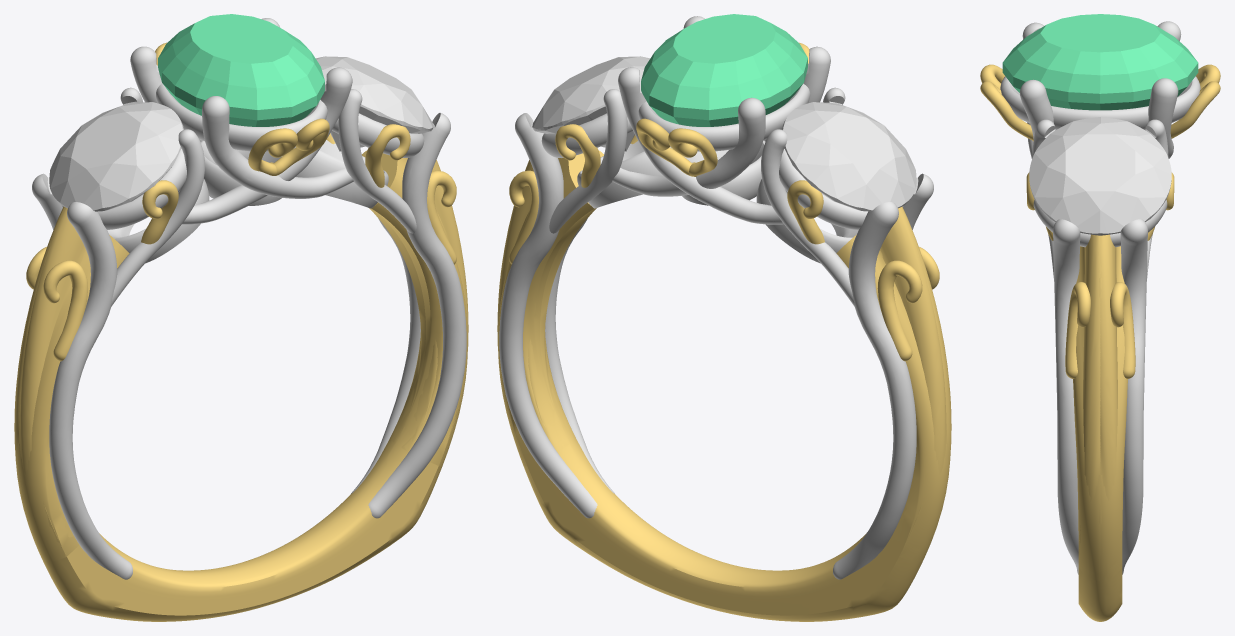
The model's file is BlaineV4newYGpt_blender.glb.
3 views of the same model, side by side, from view 1: azimuth 30°, elevation 25°; view 2: azimuth 150°, elevation 25°; view 3: azimuth 270°, elevation 25° (orthographic). The views are drawn at different scales.
Parts seen in each view (by area): view 1: V4 Blaine YG for 3d model, V4 Blaine PT for 3d model, Blaine garnet for 3d model, Blaine dia for 3d model.185, Blaine dia for 3d model.017, Blaine dia for 3d model.248; view 2: V4 Blaine YG for 3d model, V4 Blaine PT for 3d model, Blaine garnet for 3d model, Blaine dia for 3d model.185, Blaine dia for 3d model.017, Blaine dia for 3d model.262; view 3: V4 Blaine YG for 3d model, V4 Blaine PT for 3d model, Blaine garnet for 3d model, Blaine dia for 3d model.017, Blaine dia for 3d model.007, Blaine dia for 3d model.013, Blaine dia for 3d model.033, Blaine dia for 3d model.036, Blaine dia for 3d model.034, Blaine dia for 3d model.037, Blaine dia for 3d model.021, Blaine dia for 3d model.030.
Boxes of the visible parts, x1=… form: V4 Blaine YG for 3d model: x1=14, y1=42, x2=468, y2=621; V4 Blaine PT for 3d model: x1=32, y1=18, x2=466, y2=579; Blaine garnet for 3d model: x1=158, y1=14, x2=324, y2=126; Blaine dia for 3d model.185: x1=71, y1=112, x2=140, y2=168; Blaine dia for 3d model.017: x1=342, y1=57, x2=411, y2=91; Blaine dia for 3d model.248: x1=68, y1=169, x2=99, y2=203; V4 Blaine YG for 3d model: x1=497, y1=42, x2=951, y2=621; V4 Blaine PT for 3d model: x1=499, y1=16, x2=933, y2=579; Blaine garnet for 3d model: x1=641, y1=14, x2=807, y2=126; Blaine dia for 3d model.185: x1=825, y1=112, x2=894, y2=168; Blaine dia for 3d model.017: x1=554, y1=57, x2=623, y2=91; Blaine dia for 3d model.262: x1=866, y1=169, x2=897, y2=203; V4 Blaine YG for 3d model: x1=980, y1=64, x2=1220, y2=621; V4 Blaine PT for 3d model: x1=1000, y1=21, x2=1200, y2=574; Blaine garnet for 3d model: x1=1002, y1=14, x2=1198, y2=110; Blaine dia for 3d model.017: x1=1065, y1=134, x2=1135, y2=191; Blaine dia for 3d model.007: x1=1063, y1=191, x2=1100, y2=226; Blaine dia for 3d model.013: x1=1100, y1=191, x2=1137, y2=226; Blaine dia for 3d model.033: x1=1135, y1=174, x2=1165, y2=197; Blaine dia for 3d model.036: x1=1035, y1=174, x2=1065, y2=197; Blaine dia for 3d model.034: x1=1135, y1=167, x2=1165, y2=196; Blaine dia for 3d model.037: x1=1035, y1=167, x2=1065, y2=196; Blaine dia for 3d model.021: x1=1063, y1=121, x2=1099, y2=136; Blaine dia for 3d model.030: x1=1101, y1=121, x2=1137, y2=136.
Size of the model in its own units: 20.5 by 25.08 by 9.94.
